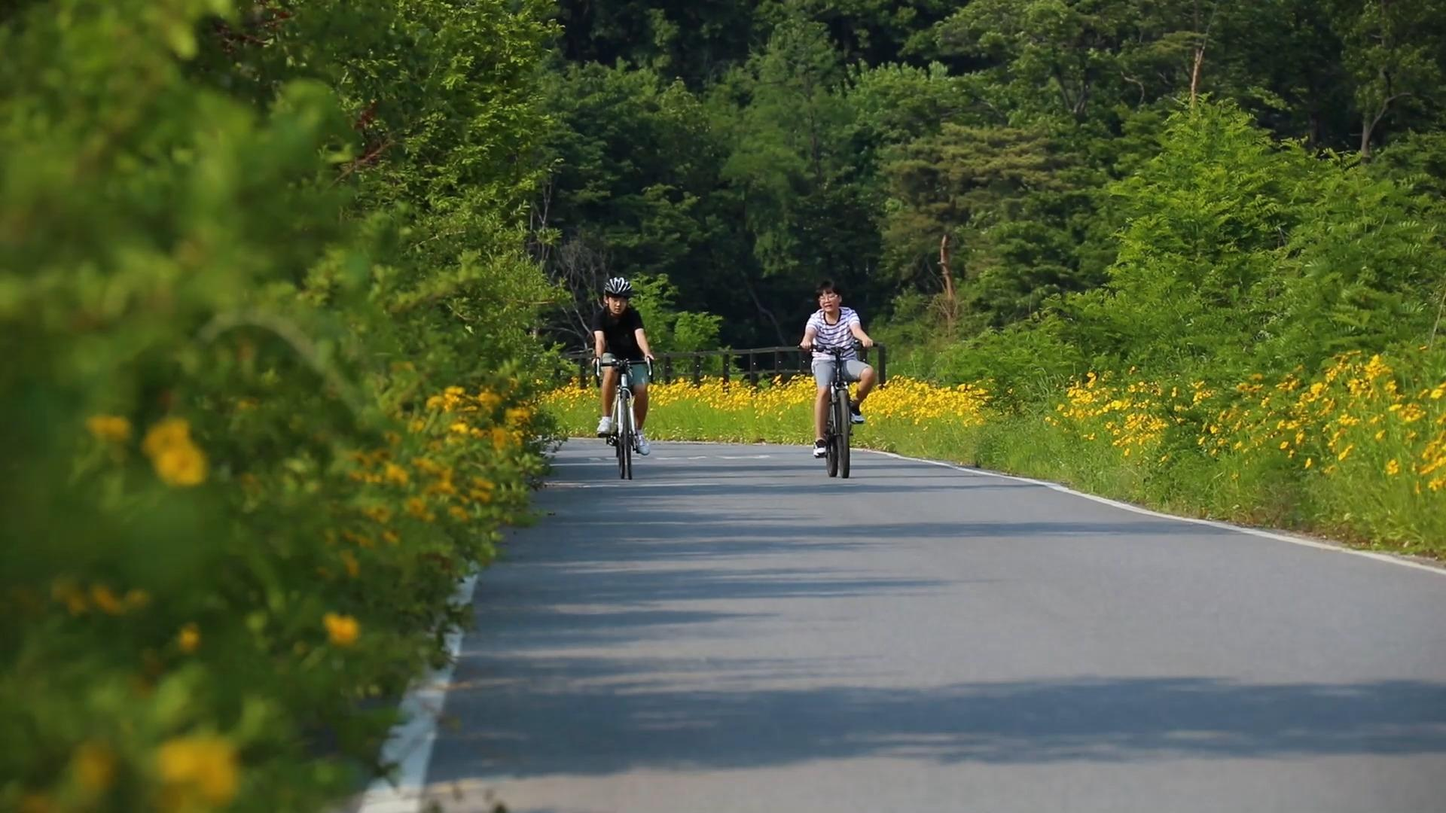bicyclist: (796, 280, 879, 480), (590, 275, 654, 480)
helmet: (604, 276, 633, 316)
no-helmet: (815, 281, 843, 314)
